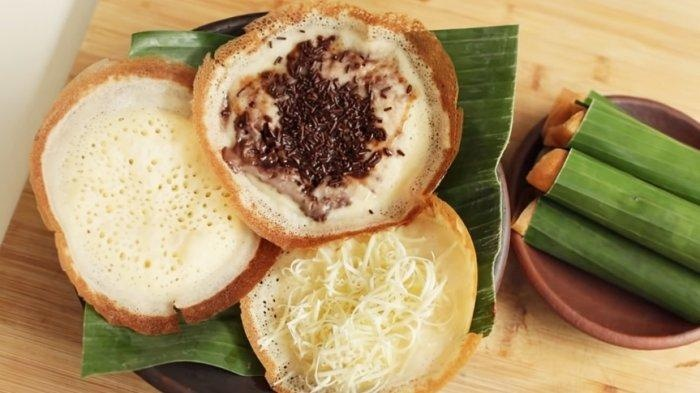srabi: (19, 62, 271, 337), (192, 1, 458, 243)
